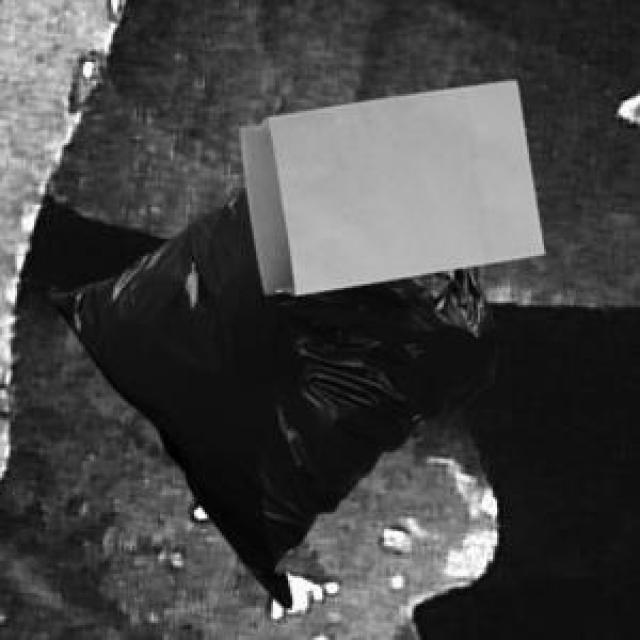miscellaneous trash: (47, 186, 493, 604)
paper: (237, 77, 540, 290)
